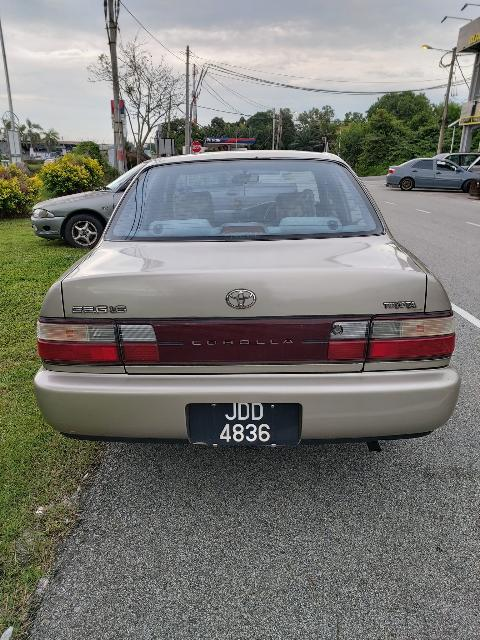License_Plate: (195, 395, 301, 457)
car: (20, 135, 459, 470)
